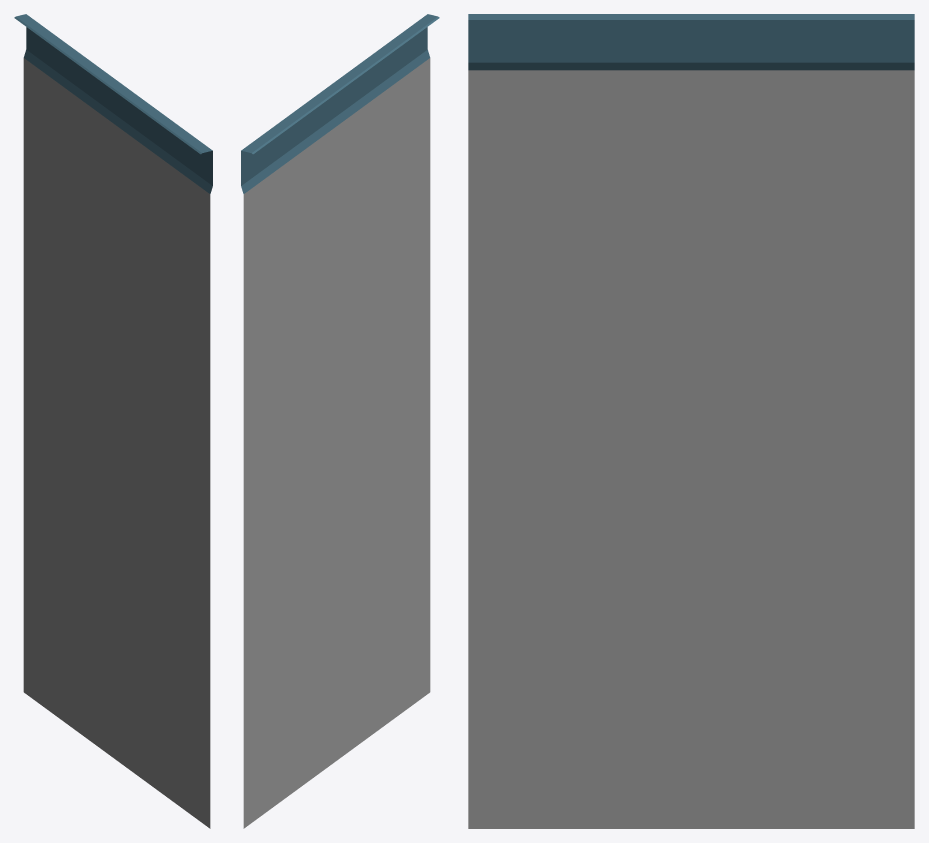
File: SM_WallTileAir.fbx
3 views of the same model, side by side, from view 1: azimuth 30°, elevation 25°; view 2: azimuth 150°, elevation 25°; view 3: azimuth 270°, elevation 25° (orthographic). The views are drawn at different scales.
Visible parts, largest first — view 1: SM_WallTileAir; view 2: SM_WallTileAir; view 3: SM_WallTileAir.
Boxes of the visible parts, x1,y1,x2,y2 form: SM_WallTileAir: [14, 14, 212, 828]; SM_WallTileAir: [241, 14, 439, 828]; SM_WallTileAir: [468, 14, 914, 828].
Bounding box in the file's own units: 7.51 × 401 × 200.
